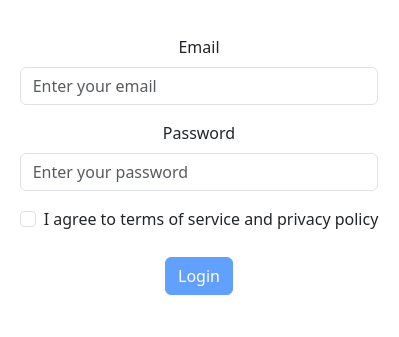
Test: Login Test › email ve sifre yanlıs hatası goster
This screenshot has width=399, height=337.
Note: Ekranda iki tane hata mesajının olduğunu kontrol et
Type "yanlis.email" into the field named "email" at (200, 86), box [20,67,379,105]
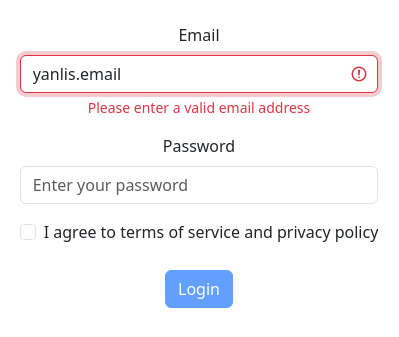
Expected: the number of elements with test id "email-error-text" is 1, [88,98,311,117]
Type "yre" into the password field named "password" at (200, 185), box [20,166,379,204]
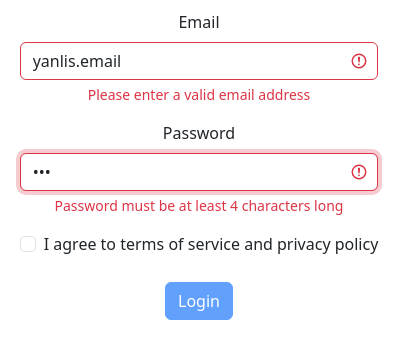
Expected: the number of elements with test id "password-error-text" is 1, [55,196,344,215]
